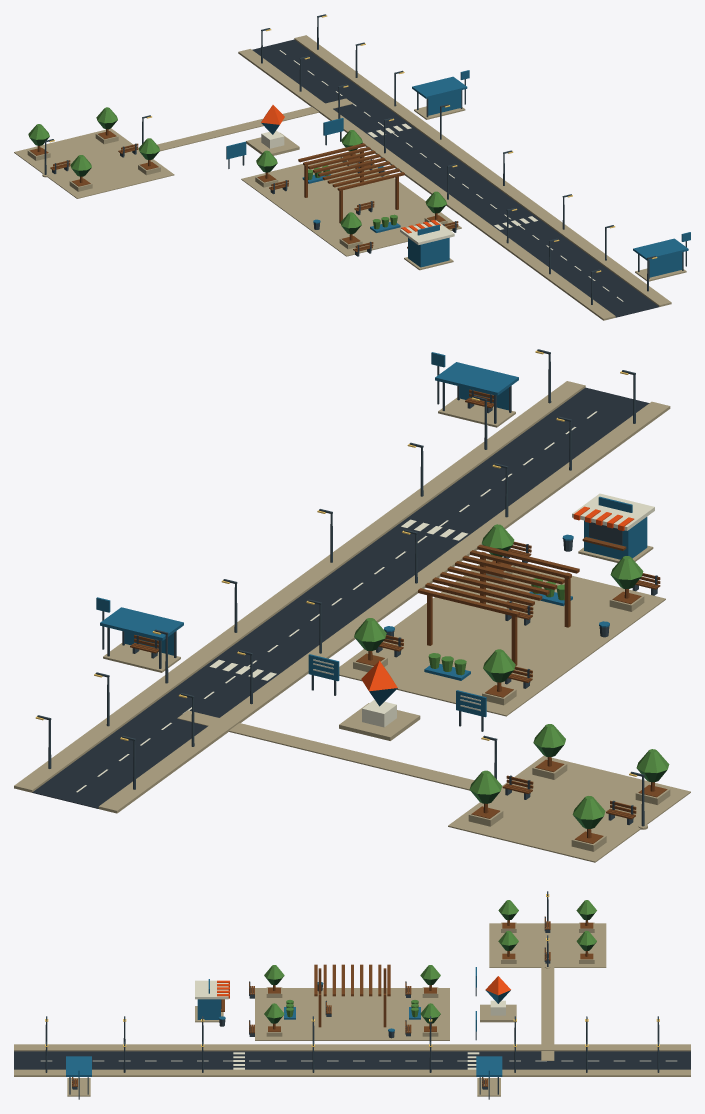
Rendered from details-metropoli.obj.
3 views of the same model, one above another, from view 1: azimuth 30°, elevation 25°; view 2: azimuth 150°, elevation 25°; view 3: azimuth 270°, elevation 25° (orthographic). The views are drawn at different scales.
Size of the model in its own units: 325 by 33 by 520.
